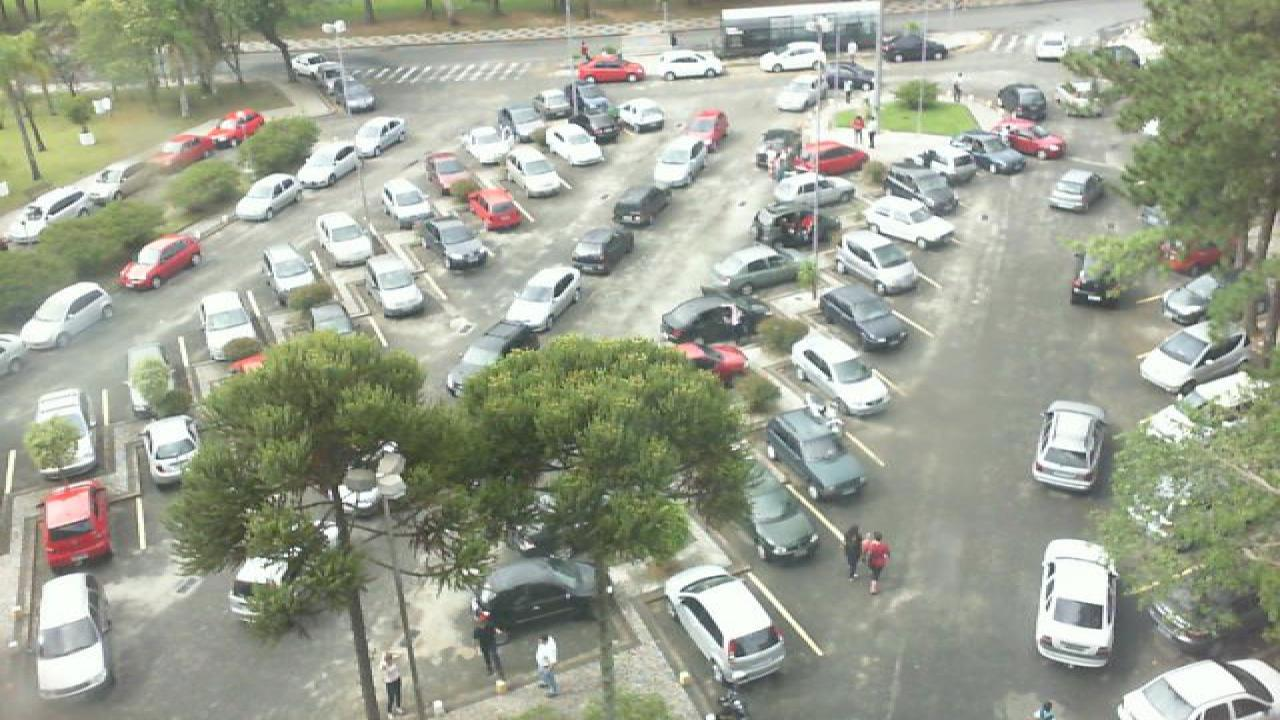Car: (660, 563, 788, 685), (1032, 538, 1122, 669), (462, 551, 600, 630), (34, 569, 116, 701), (1110, 657, 1280, 720), (762, 411, 868, 503), (790, 333, 896, 417), (740, 462, 822, 566), (1138, 322, 1250, 394), (1032, 399, 1110, 495), (40, 480, 116, 572), (444, 320, 530, 400), (814, 282, 910, 352), (20, 280, 116, 349), (656, 290, 768, 346), (196, 287, 272, 369), (834, 227, 922, 296), (32, 387, 98, 478), (500, 264, 586, 333), (864, 194, 958, 246), (138, 413, 204, 486), (708, 243, 802, 293), (416, 209, 490, 272), (120, 235, 204, 289), (884, 164, 960, 216), (750, 206, 834, 252), (230, 172, 302, 223), (568, 225, 638, 276), (260, 246, 320, 305), (562, 81, 620, 142), (950, 130, 1028, 174), (370, 255, 426, 316), (1160, 271, 1222, 325), (290, 141, 358, 189), (318, 210, 376, 266), (4, 200, 74, 246), (994, 115, 1068, 158), (766, 173, 856, 208), (508, 147, 570, 197), (38, 182, 118, 220), (638, 48, 730, 81), (1068, 253, 1124, 307), (652, 137, 712, 187), (612, 180, 672, 227), (794, 138, 872, 174), (546, 122, 608, 166), (152, 133, 220, 173), (468, 187, 528, 232), (350, 114, 408, 158), (1048, 168, 1104, 212), (758, 39, 830, 72), (204, 108, 268, 144), (380, 171, 430, 217), (570, 53, 646, 83), (422, 150, 470, 195), (680, 108, 730, 151), (776, 72, 828, 111), (880, 34, 950, 62), (756, 128, 800, 172), (616, 96, 668, 132), (998, 83, 1048, 119), (814, 61, 876, 90), (332, 76, 378, 112), (1032, 30, 1068, 61), (292, 52, 336, 74)
